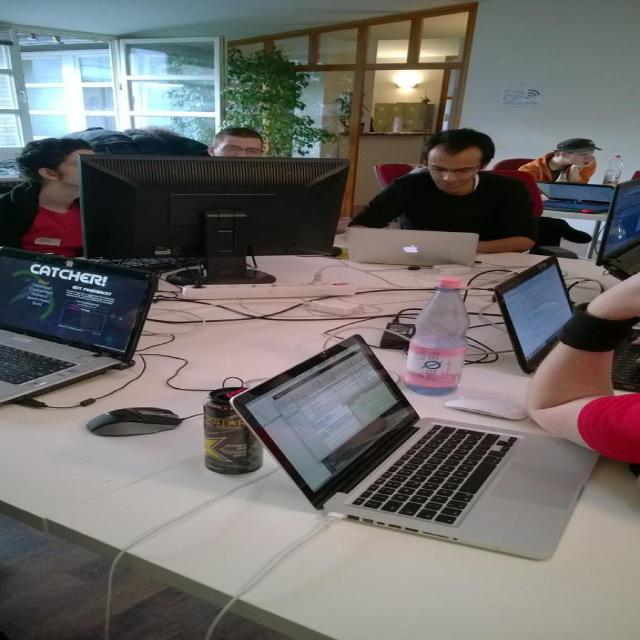bottle: (405, 277, 471, 396)
komputer: (86, 156, 357, 288)
laptop: (236, 343, 617, 560), (350, 230, 480, 264)
mouse: (87, 407, 178, 436), (443, 396, 529, 420)
